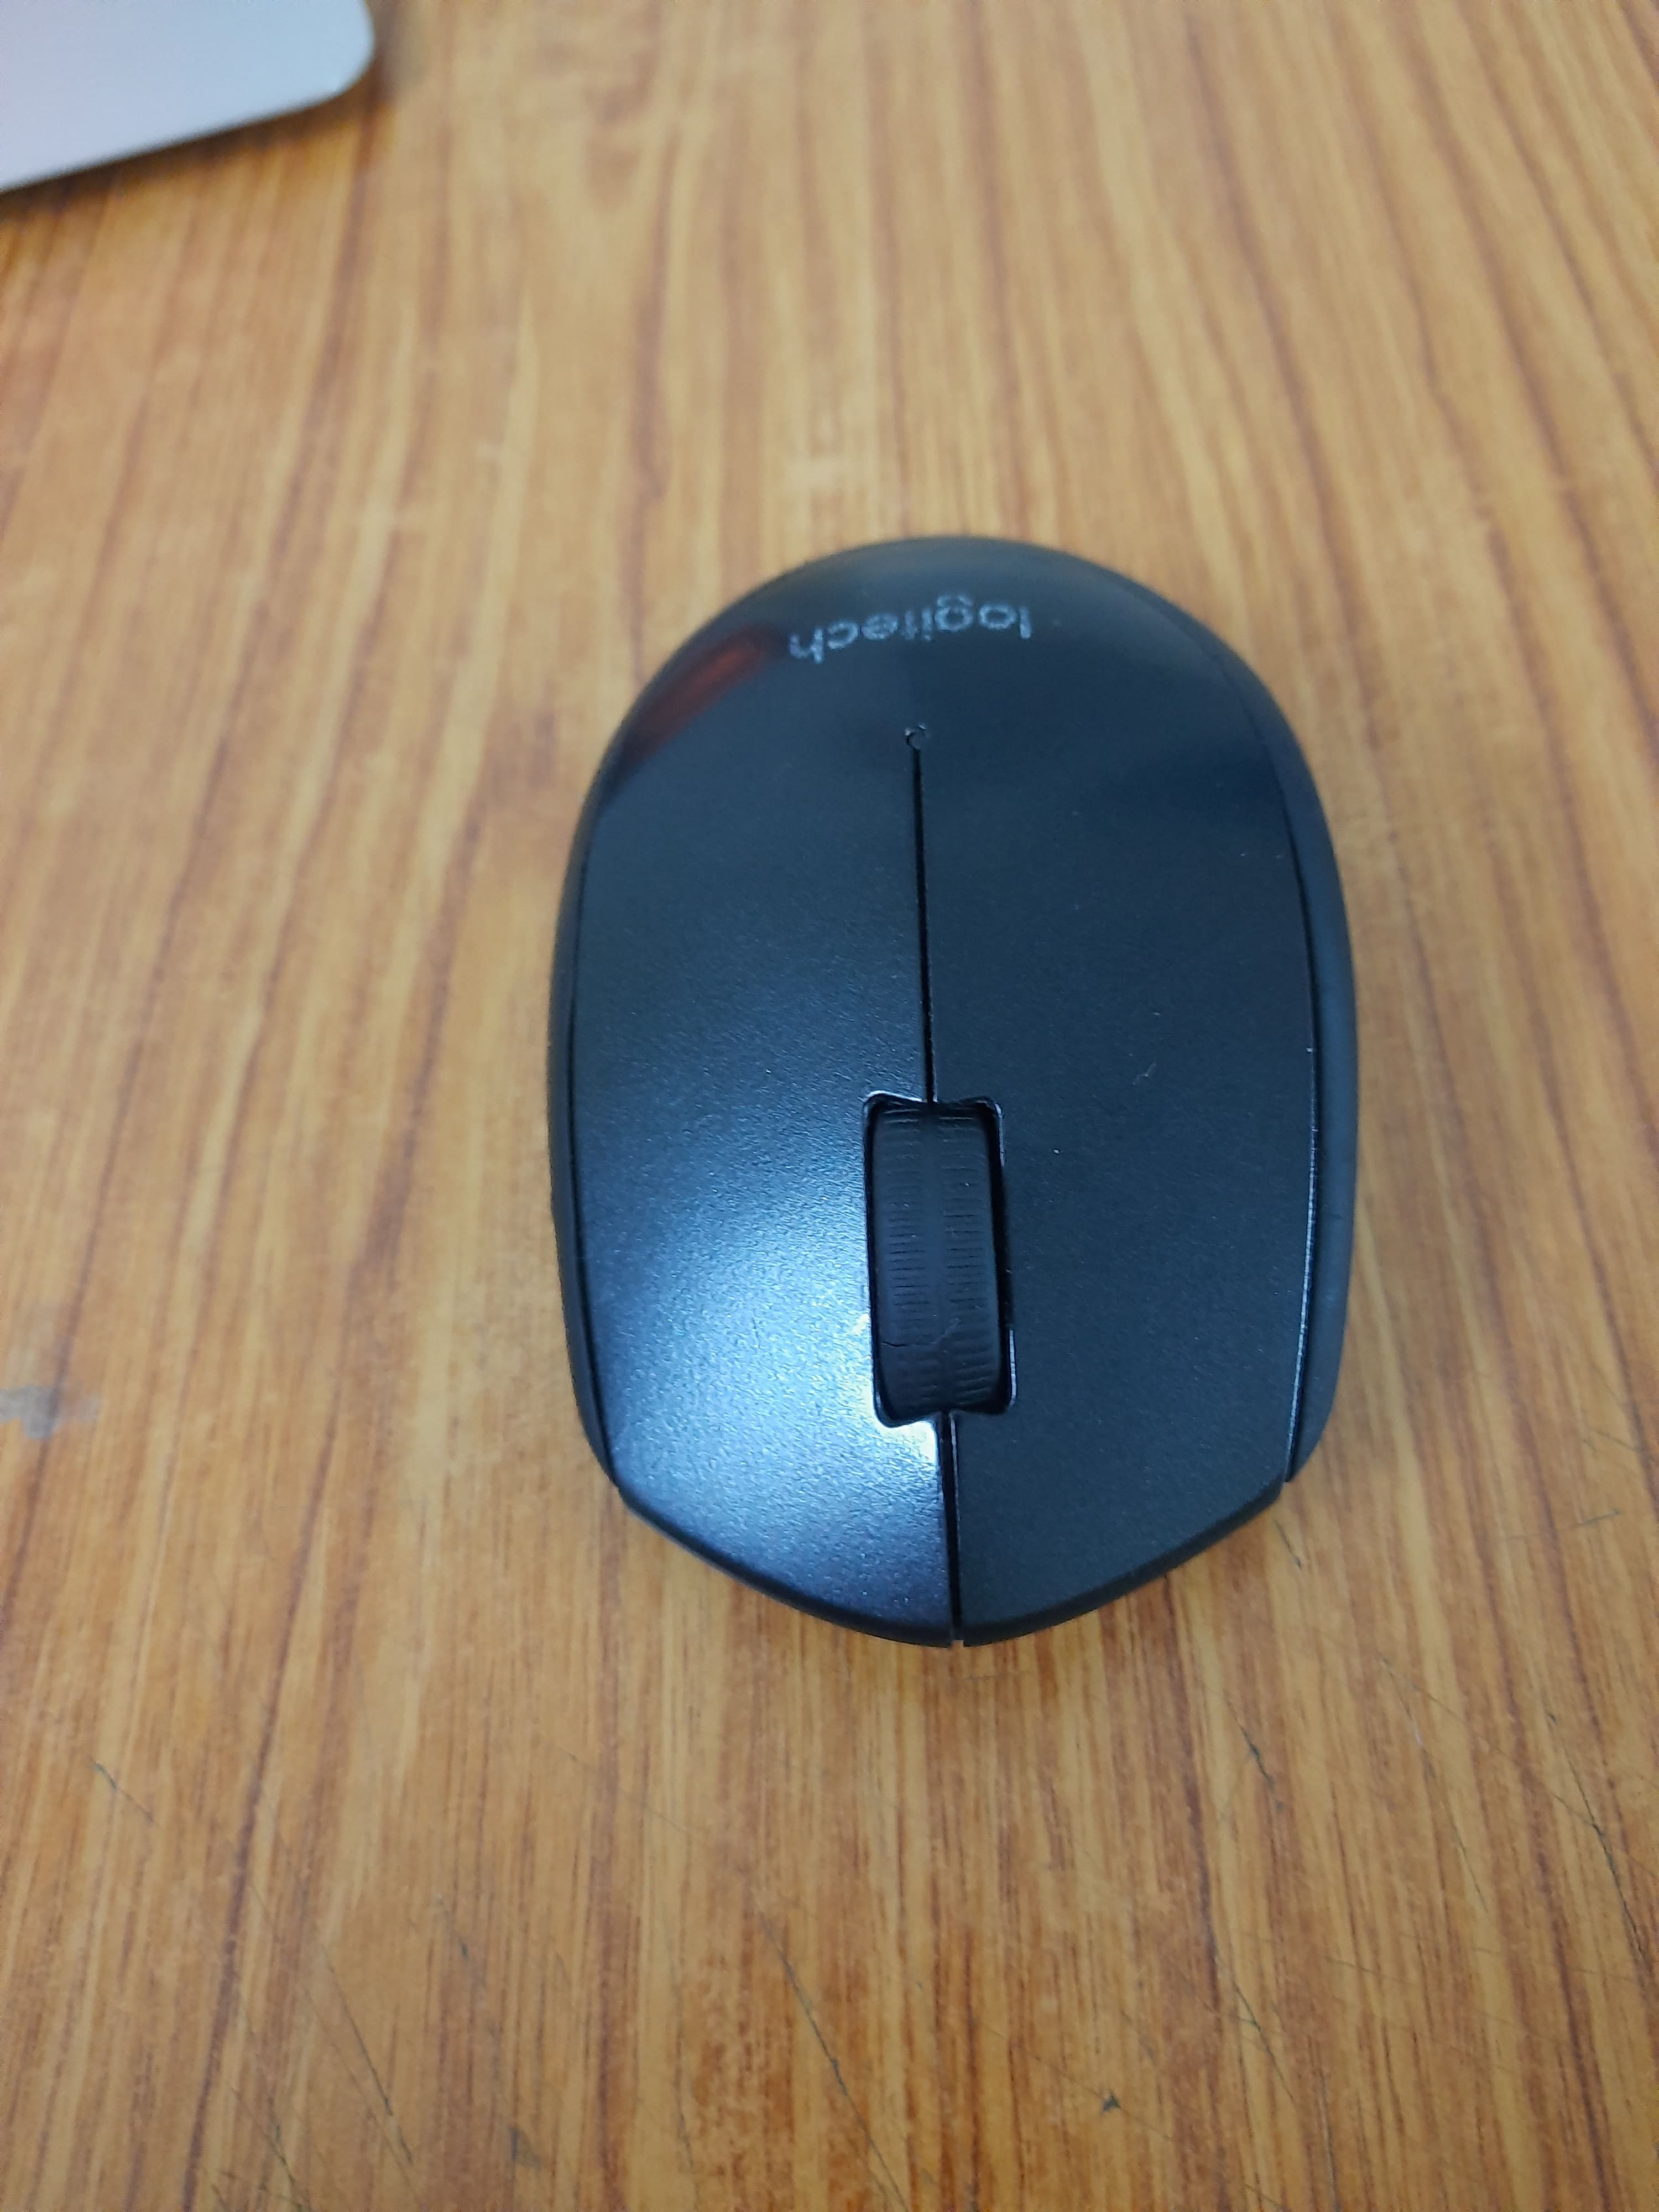Vikash's Mouse: (537, 526, 1373, 1662)
